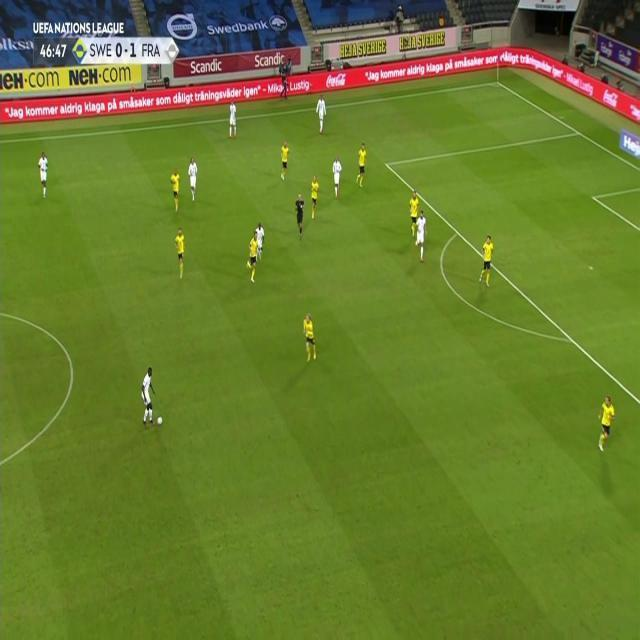ball: (156, 413, 164, 425)
player: (139, 367, 161, 429), (596, 393, 617, 453), (478, 234, 496, 288), (302, 312, 318, 365), (246, 230, 261, 284), (414, 209, 429, 263), (173, 226, 187, 280), (408, 189, 421, 239), (37, 150, 50, 199), (355, 142, 368, 190), (187, 156, 200, 202), (170, 168, 182, 213), (331, 156, 343, 200), (310, 173, 321, 220), (315, 94, 328, 133), (279, 140, 291, 182), (255, 222, 266, 257), (228, 100, 238, 138)
referee: (294, 191, 305, 240)
